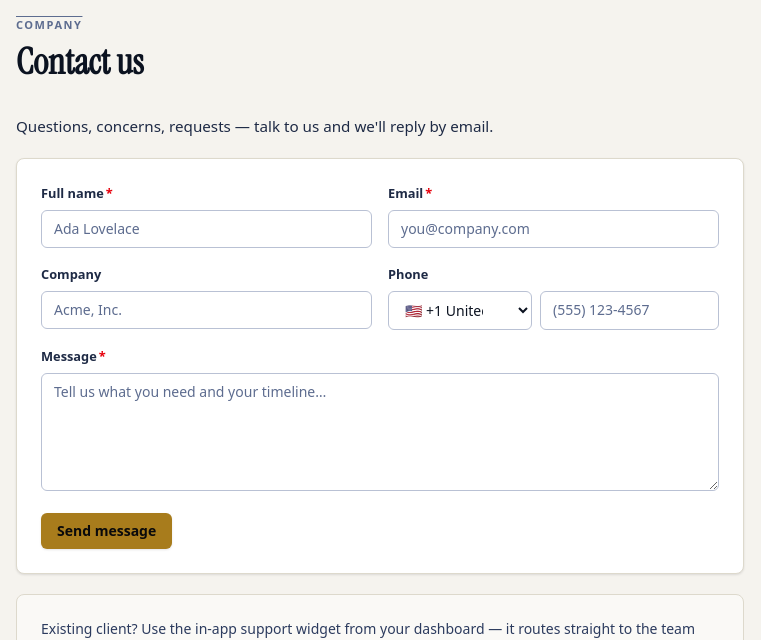
Test: contact form (gap #28) › still refuses a phone number that is present but not dialable
Type "Ada" into the field labelled "Full name" at [206, 229], box [41,210,372,248]
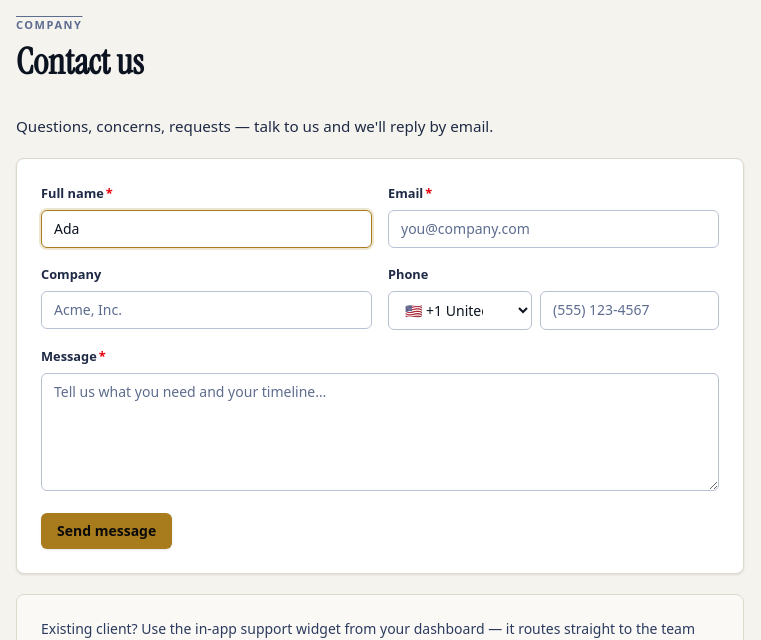
Type "ada@x.example" into the field labelled "Email" at [554, 229], box [388,210,719,248]
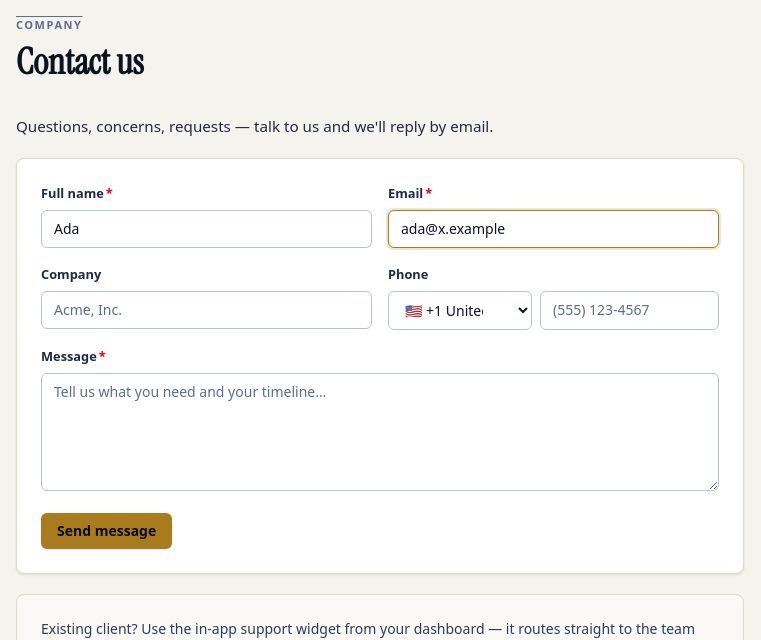
Type "Hello" into the text box labelled "Message" at [380, 432], box [41,372,719,490]
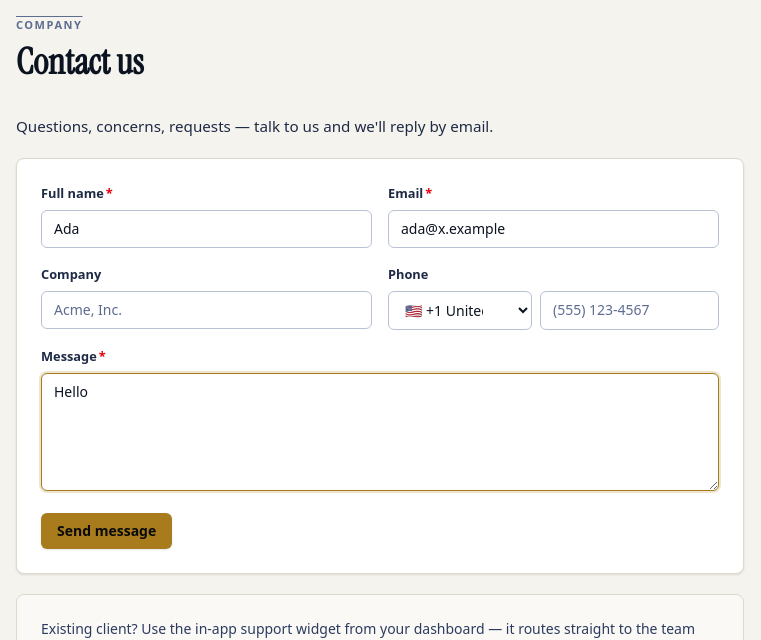
Type "555" into the field named "Phone number" at [630, 310], box [540,291,719,330]
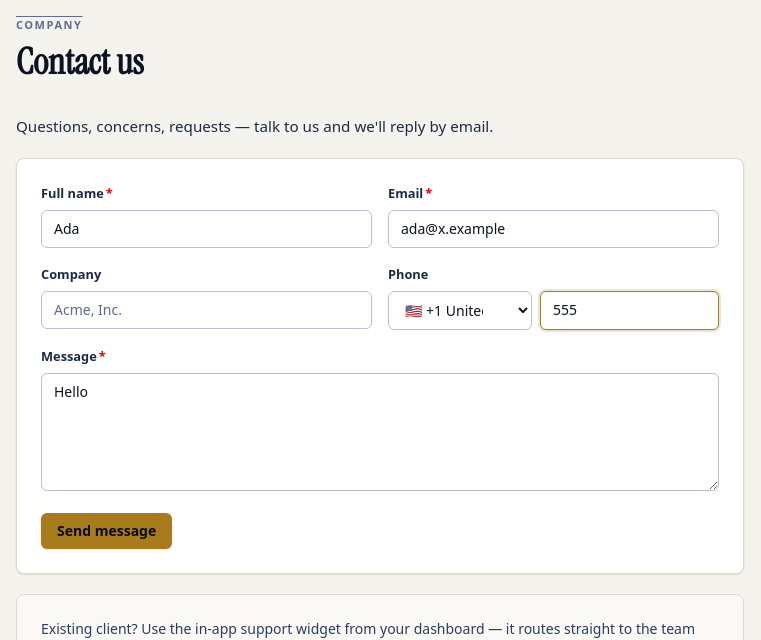
Click the button "Send message" at [107, 531], box [41,513,172,549]
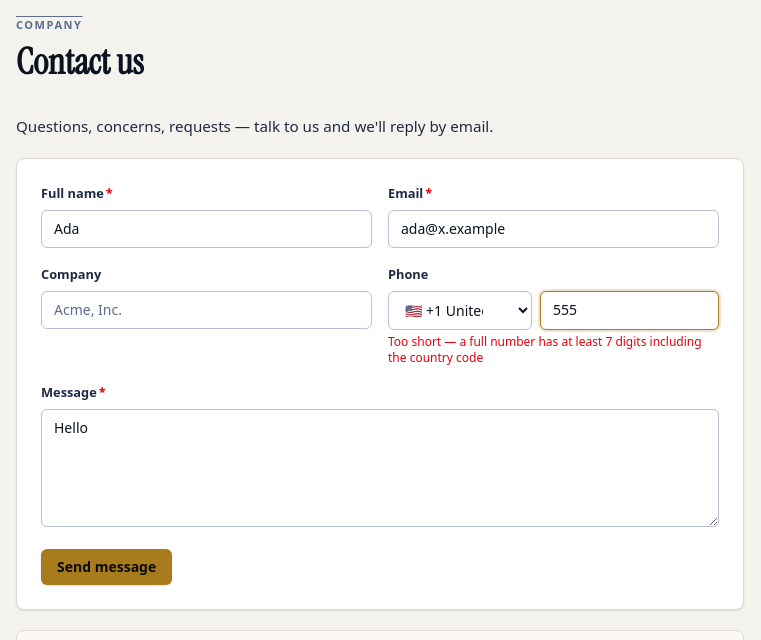
Expected: the text "Too short" is shown, [388,333,702,366]
